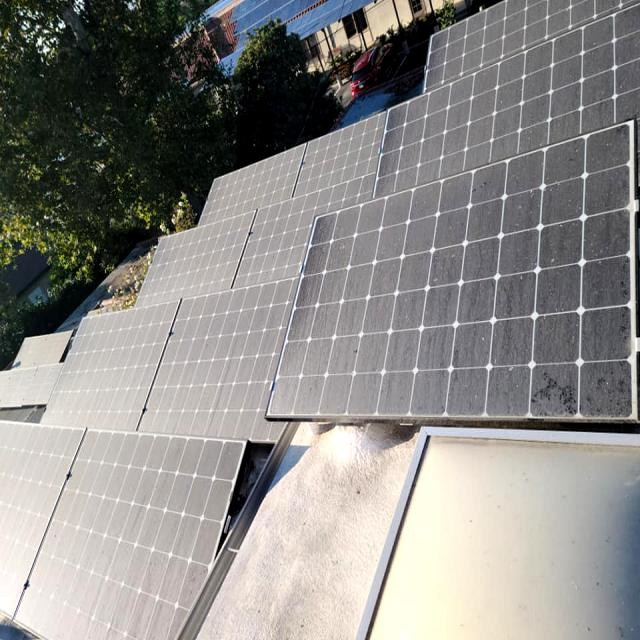dust: (318, 211, 633, 406), (439, 42, 616, 178), (88, 432, 170, 628), (183, 306, 257, 433), (315, 128, 428, 181), (85, 319, 126, 412), (163, 240, 228, 290), (256, 210, 287, 273), (220, 176, 293, 198)
